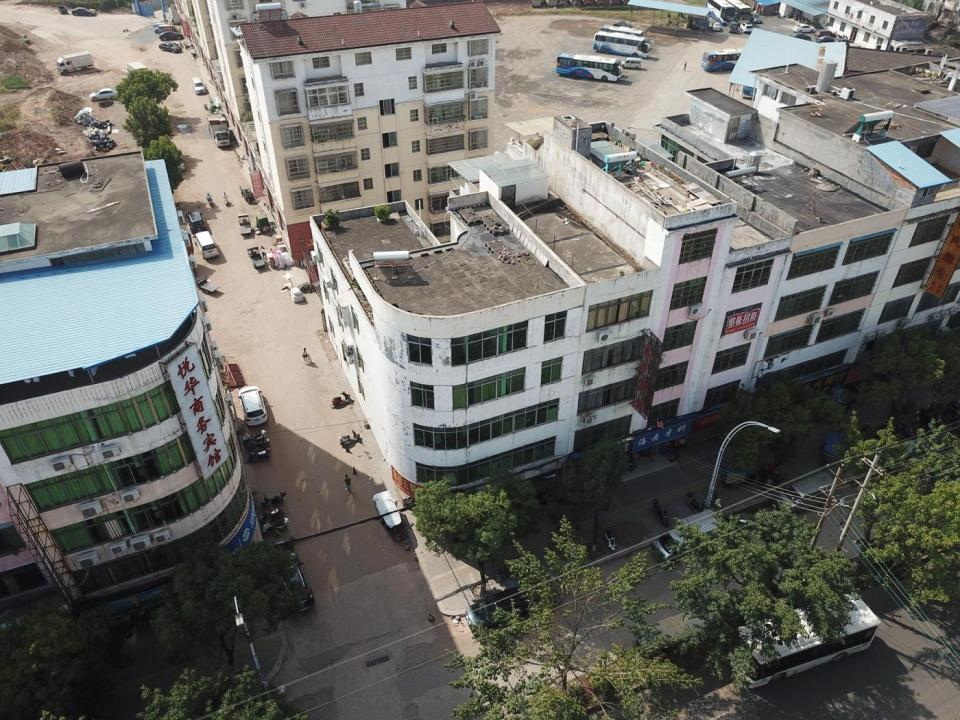bus: (732, 590, 880, 690), (556, 52, 624, 82), (593, 31, 654, 59), (701, 48, 755, 72), (601, 25, 646, 48), (704, 0, 737, 25), (726, 0, 750, 25)
car: (466, 589, 551, 634), (275, 552, 315, 614), (236, 386, 268, 426), (185, 210, 207, 232), (89, 89, 120, 101), (192, 77, 206, 96), (158, 41, 182, 52), (158, 31, 184, 41), (70, 8, 96, 17), (614, 21, 632, 32), (153, 23, 171, 33), (793, 25, 815, 33), (791, 34, 812, 42), (815, 30, 836, 38), (837, 38, 853, 48), (750, 13, 762, 24), (740, 23, 753, 33), (816, 36, 834, 43), (728, 21, 737, 32), (712, 22, 720, 31)
truck: (56, 50, 93, 75), (207, 114, 230, 146), (127, 62, 149, 86)
van: (652, 511, 719, 563), (773, 473, 834, 513), (194, 231, 219, 258), (620, 57, 642, 69), (159, 25, 180, 33)
